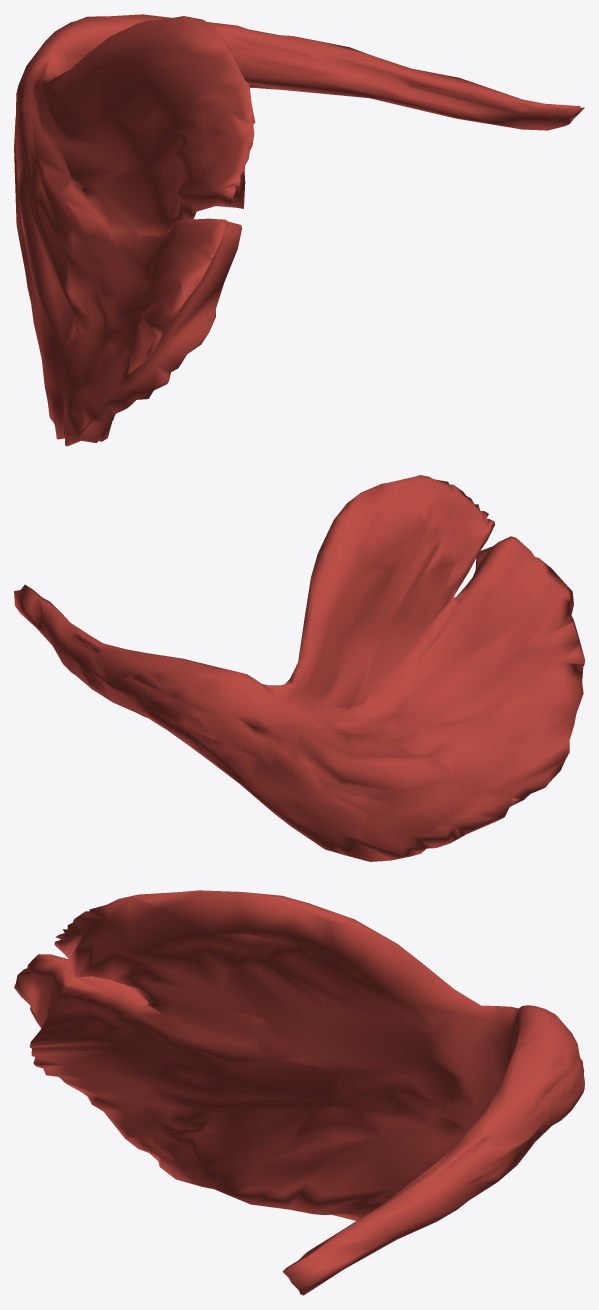
File: musculos-obturator-internus-l.glb
The picture shows the model from 3 angles, top to bottom: view 1: azimuth 30°, elevation 25°; view 2: azimuth 150°, elevation 25°; view 3: azimuth 270°, elevation 25°; orthographic projection. The views are drawn at different scales.
Parts seen in each view (by area): view 1: Obturator internus.l; view 2: Obturator internus.l; view 3: Obturator internus.l.
Boxes of the visible parts, <box> form: Obturator internus.l: <box>14,14,584,446</box>; Obturator internus.l: <box>14,475,584,861</box>; Obturator internus.l: <box>14,890,584,1295</box>.
Bounding box in the file's own units: 0.0977 × 0.0598 × 0.0816.
